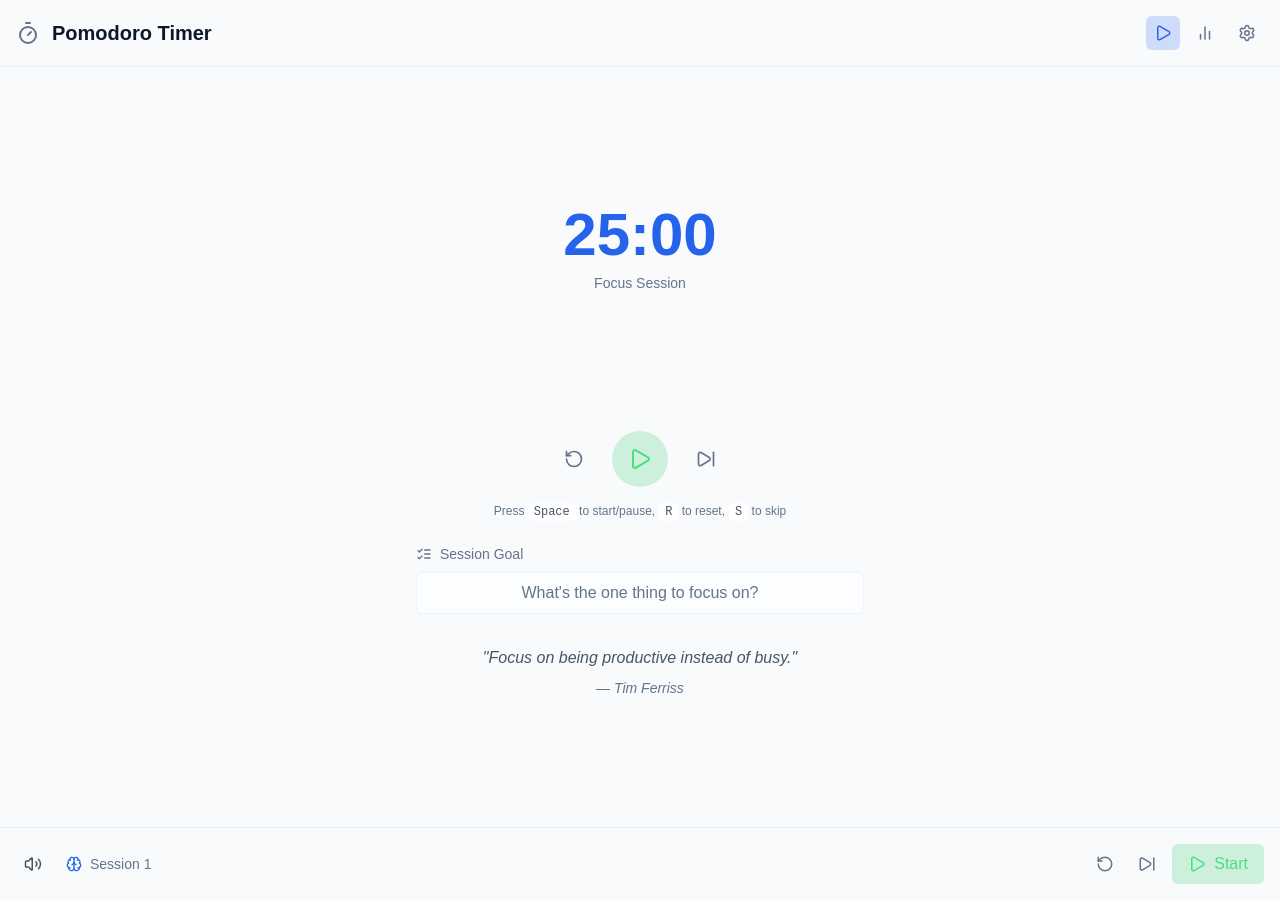
Test case: PomodoroTablet › integration › should handle complete pomodoro workflow
Type "Complete tests" into the field with placeholder "What's the one thing to focus on?" at (640, 593), box [416, 572, 864, 614]
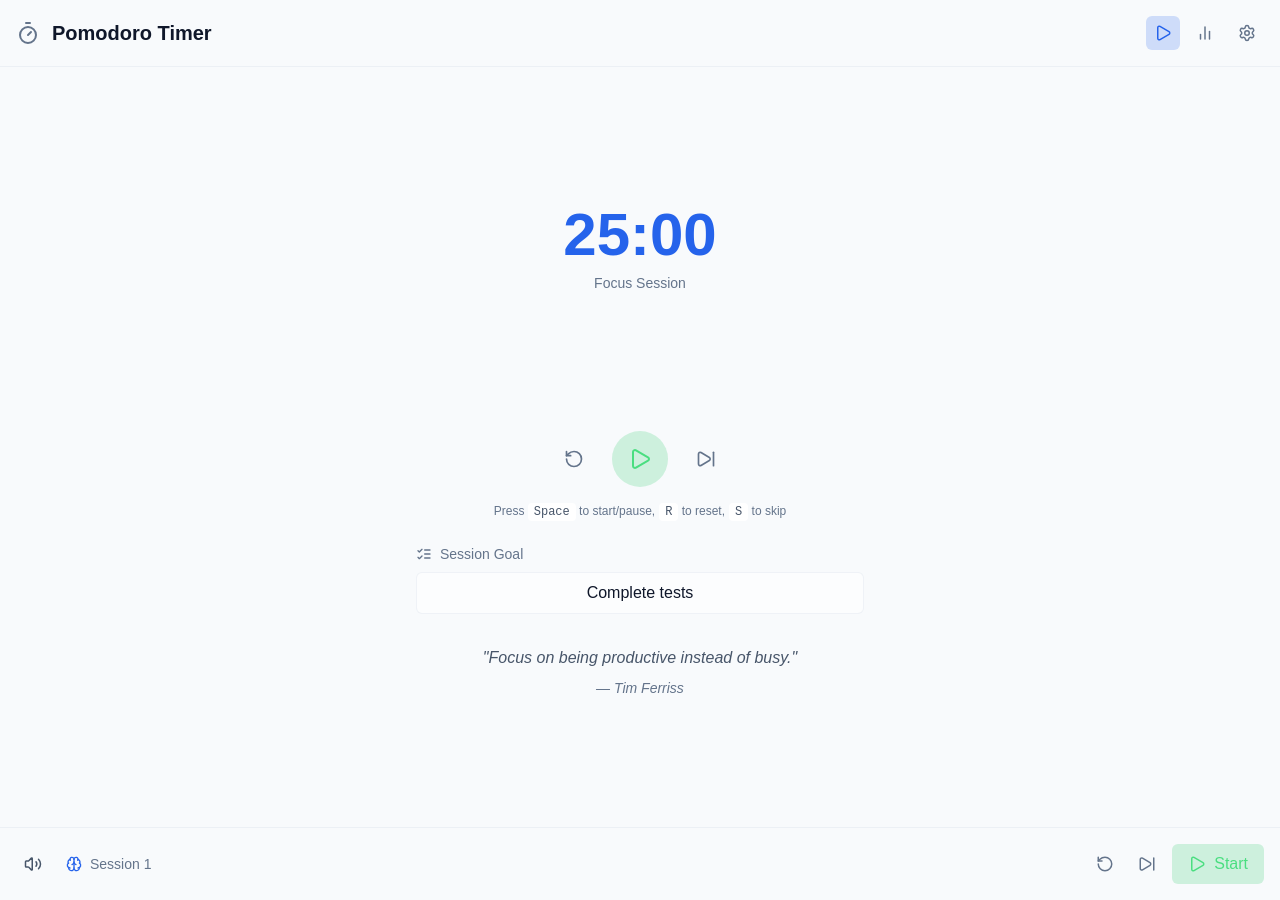
Note: Start timer
Click the button named "Start" at (640, 459), box [612, 431, 668, 487]
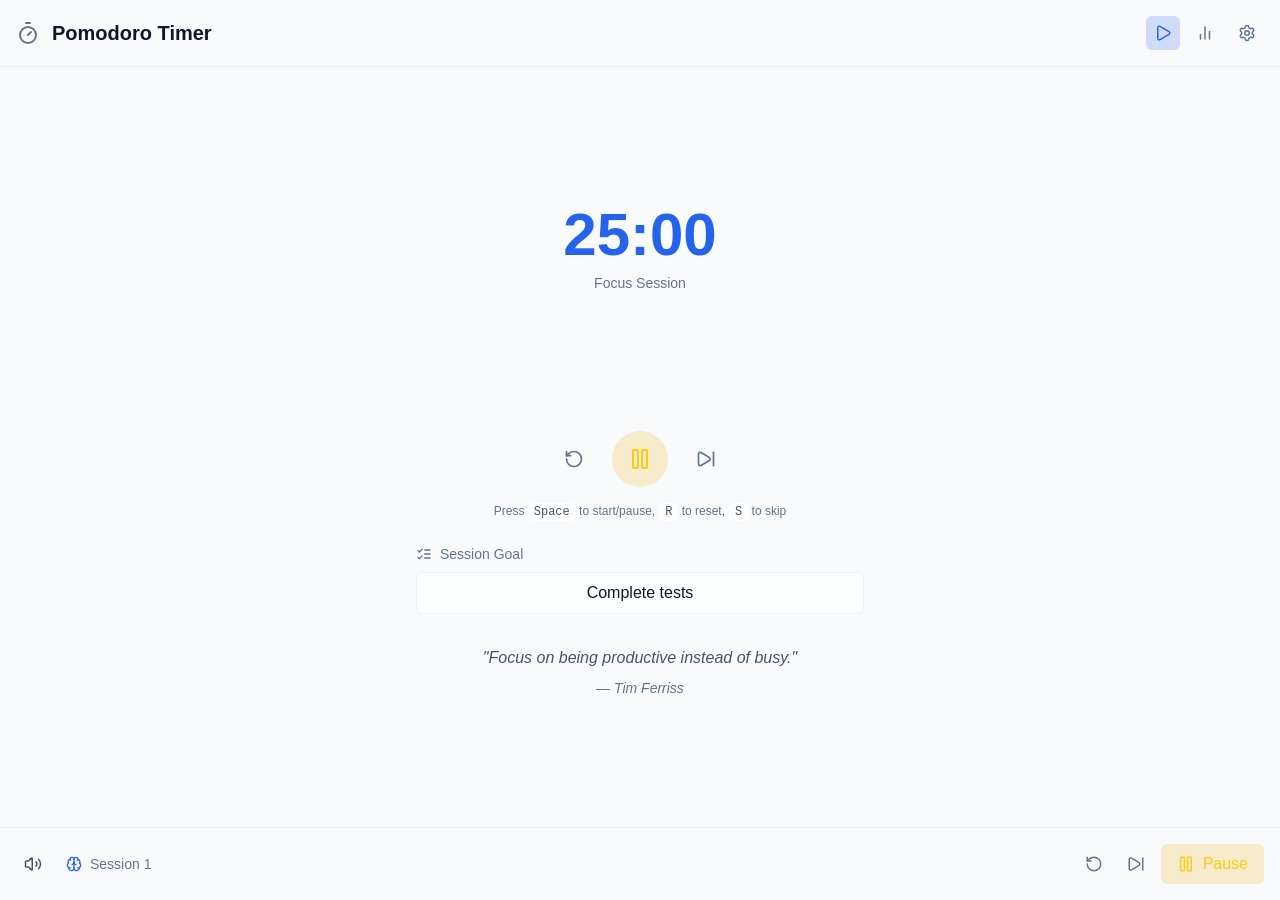
Click the button named "Settings" at (1247, 33), box [1230, 16, 1264, 50]
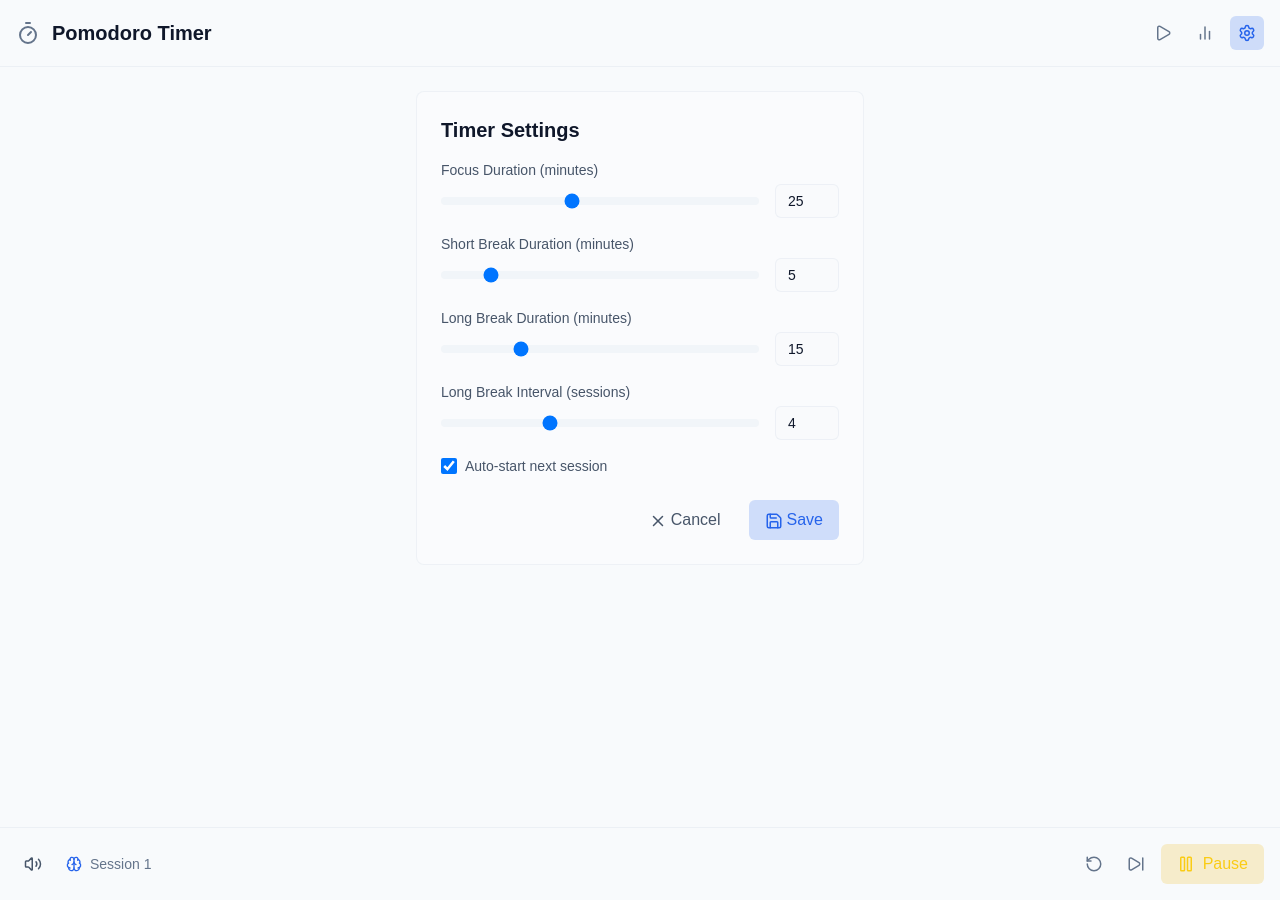
Result: the heading "Timer Settings" is shown at [441, 119, 580, 141]
Note: Return to timer
Click the button "Cancel" at (685, 520), box [633, 500, 736, 540]
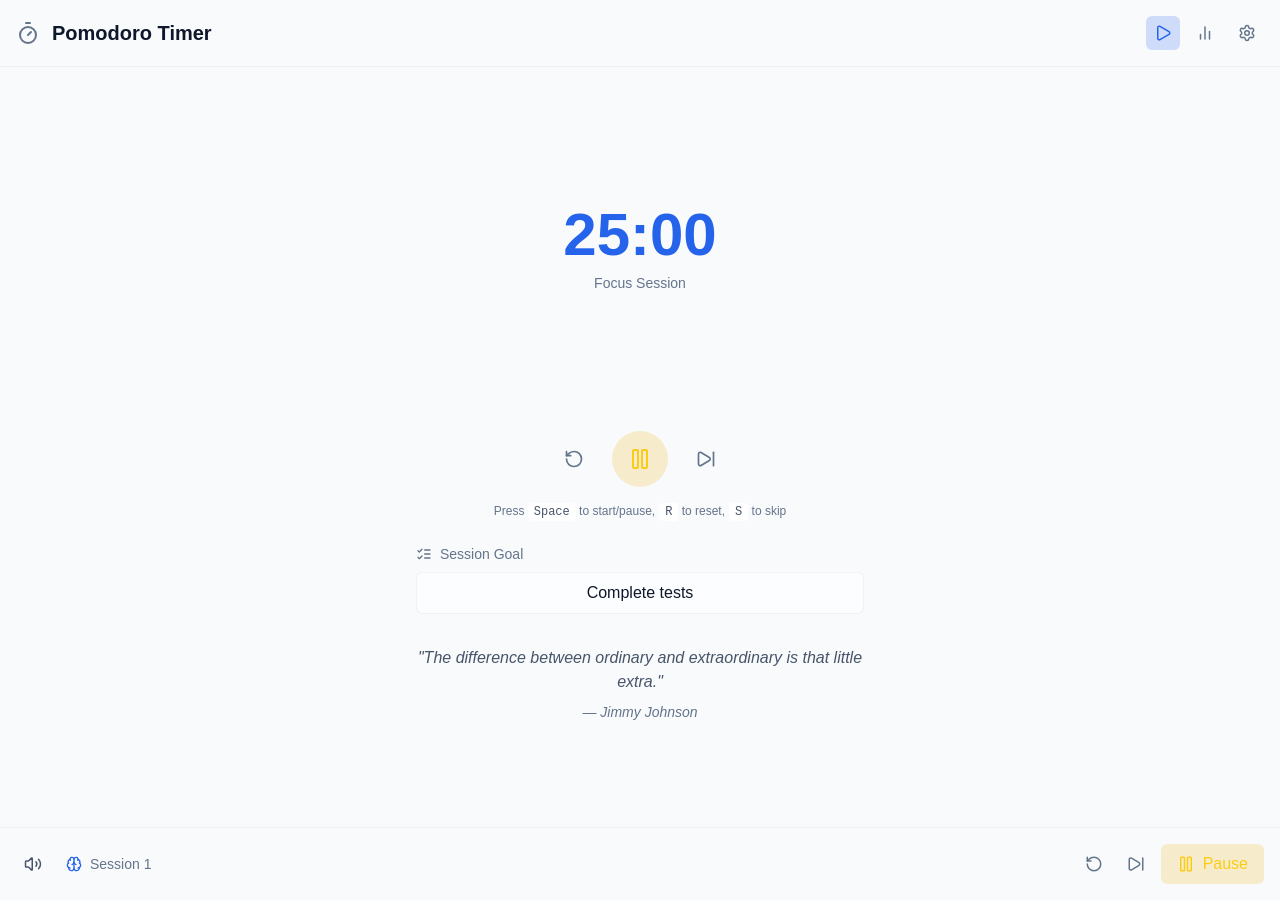
Result: the text "Focus Session" is shown at [594, 273, 686, 293]
